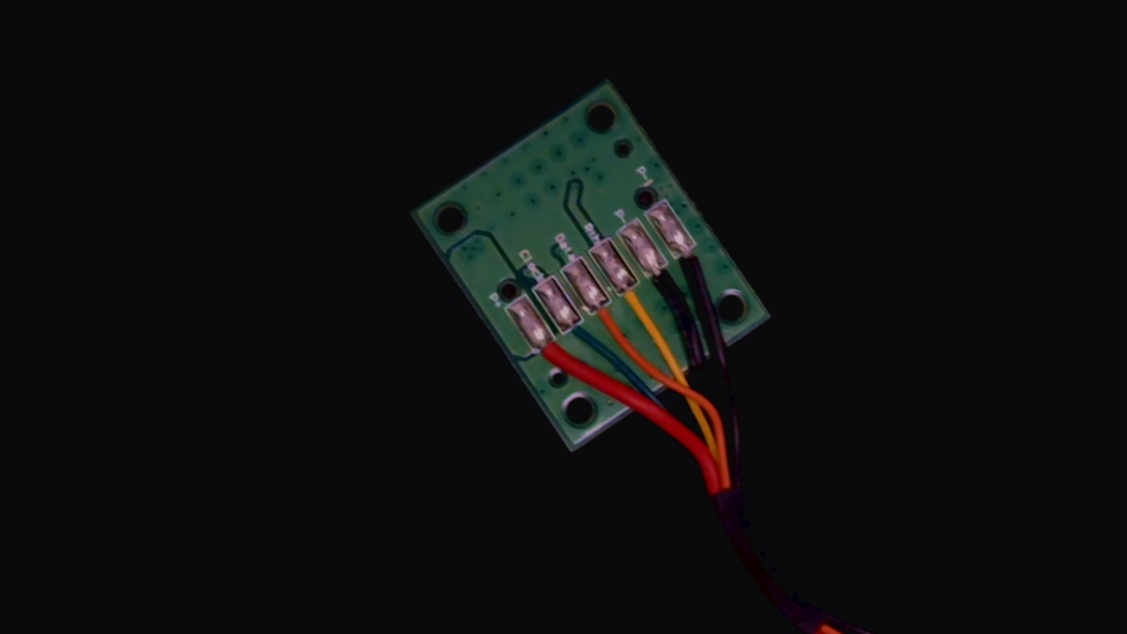Black: (635, 248, 696, 318)
Black1: (669, 229, 724, 293)
Green: (554, 306, 605, 365)
Orange: (581, 286, 640, 354)
Red: (526, 324, 581, 388)
Yellow: (606, 269, 668, 340)
